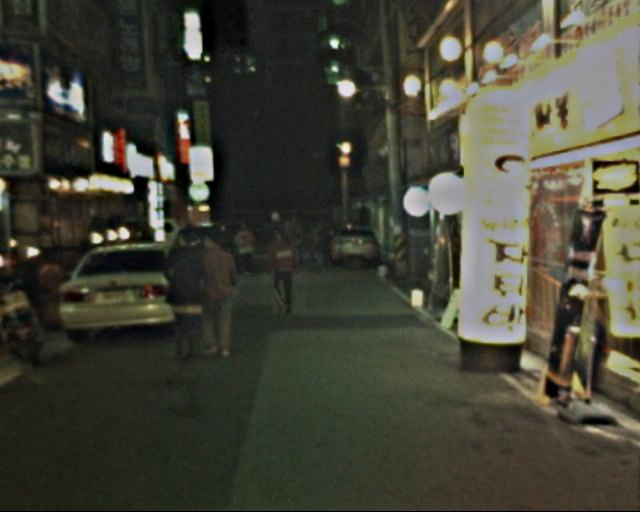person: (162, 225, 214, 372), (191, 225, 243, 366), (264, 224, 302, 319), (270, 205, 298, 279), (232, 219, 261, 285), (313, 222, 334, 276)
